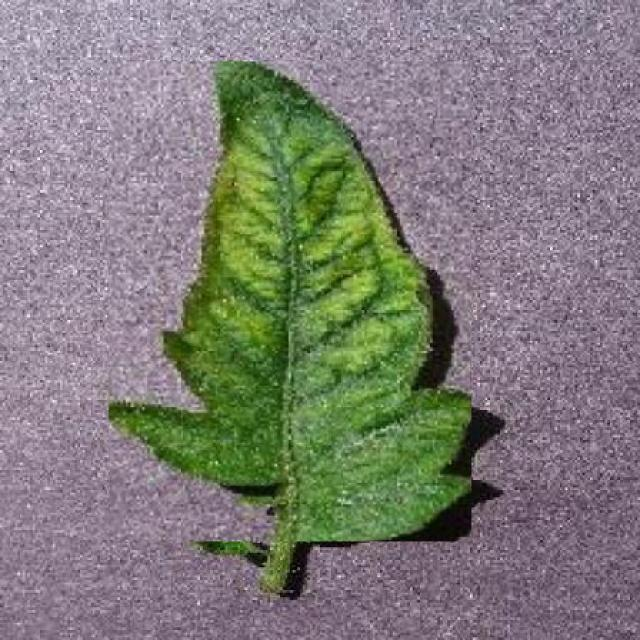Mosaic Virus: (109, 62, 471, 542)
